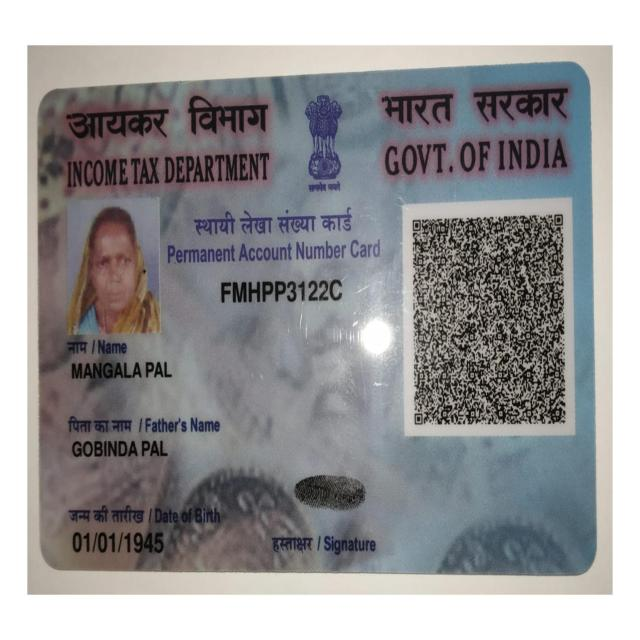pan_card: (40, 81, 598, 569)
